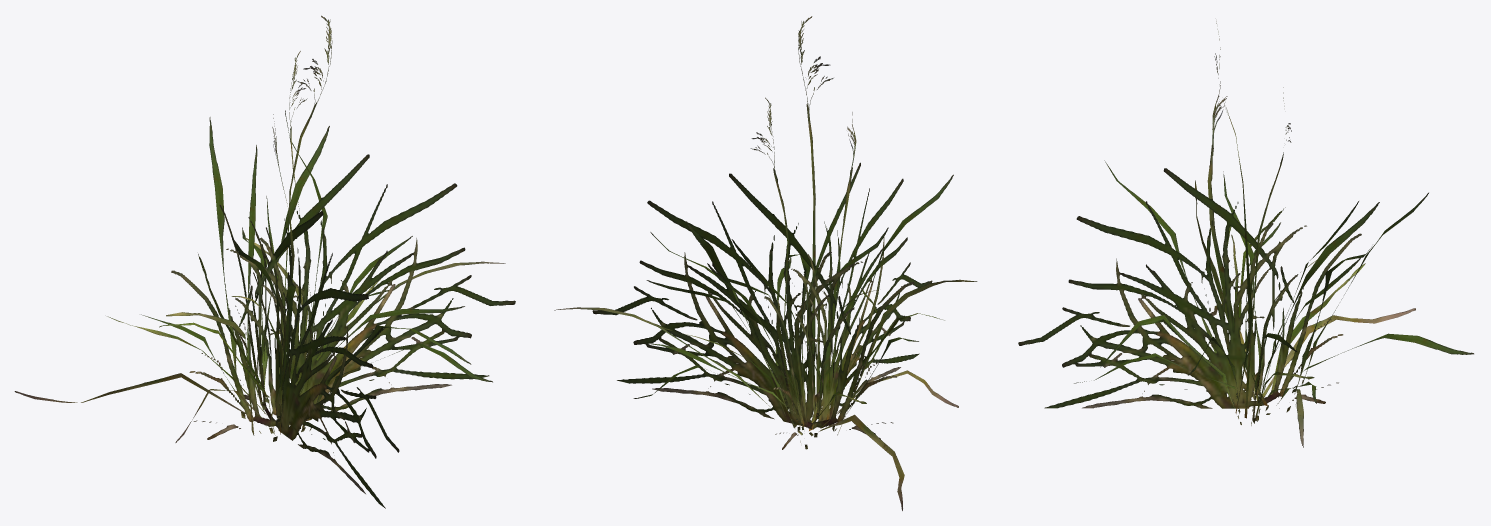
The model's file is grass_medium_01_mid_b.gltf.
The picture shows the model from 3 angles, left to right: view 1: azimuth 30°, elevation 25°; view 2: azimuth 150°, elevation 25°; view 3: azimuth 270°, elevation 25°; orthographic projection. The views are drawn at different scales.
Parts seen in each view (by area): view 1: grass_medium_01_mid_b__x; view 2: grass_medium_01_mid_b__x; view 3: grass_medium_01_mid_b__x.
Boxes of the visible parts, box(x1,y1,x2,y2) form: grass_medium_01_mid_b__x: box(14, 15, 515, 508); grass_medium_01_mid_b__x: box(554, 16, 977, 510); grass_medium_01_mid_b__x: box(1018, 21, 1473, 447).
Bounding box in the file's own units: 0.1878 × 0.1777 × 0.1823.
1 material, 1 textured.
